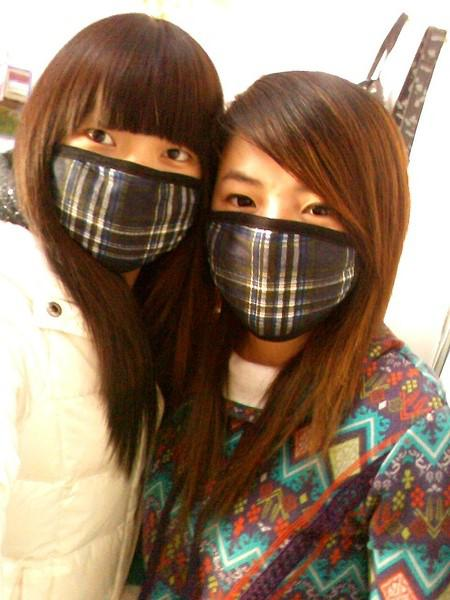OK: (210, 164, 383, 337), (64, 118, 212, 266)
